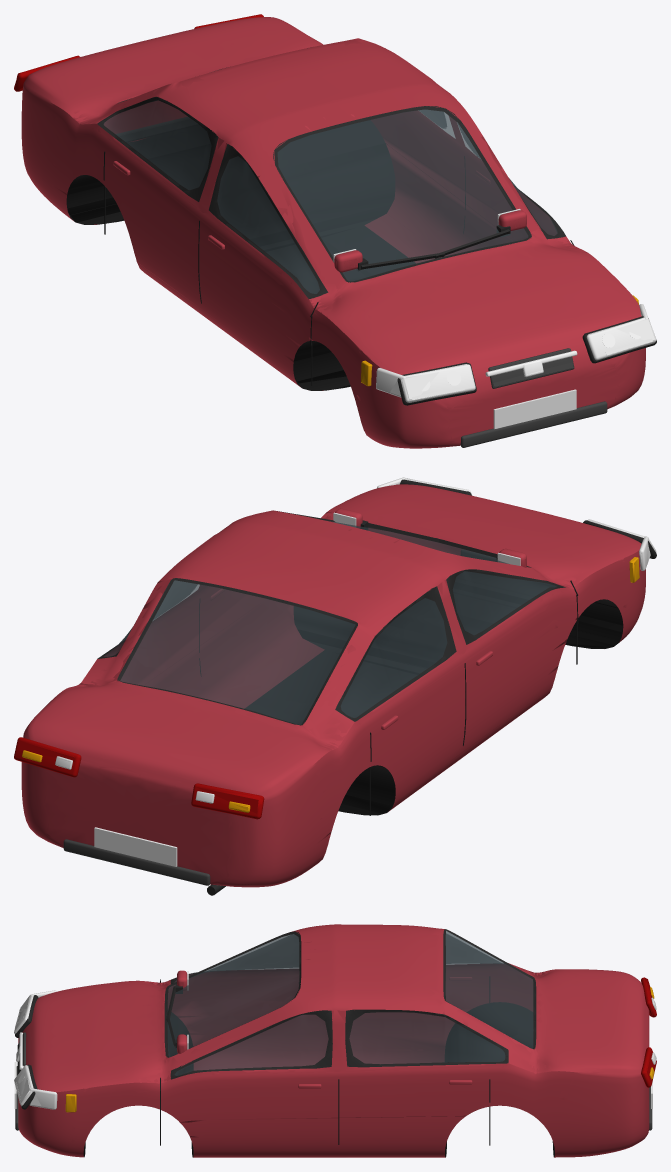
The model's file is priora.glb.
3 views of the same model, one above another, from view 1: azimuth 30°, elevation 25°; view 2: azimuth 150°, elevation 25°; view 3: azimuth 270°, elevation 25° (orthographic). The views are drawn at different scales.
Visible parts, largest first — view 1: LOD_hi, LOD0; view 2: LOD_hi, LOD0; view 3: LOD_hi, LOD0.
Boxes of the visible parts, x1=… form: LOD_hi: x1=14, y1=14, x2=656, y2=448; LOD0: x1=15, y1=15, x2=654, y2=448; LOD_hi: x1=14, y1=477, x2=656, y2=895; LOD0: x1=17, y1=478, x2=654, y2=894; LOD_hi: x1=14, y1=924, x2=656, y2=1157; LOD0: x1=15, y1=924, x2=654, y2=1157.
Size of what is drawn, in the model's own units: 1.74 by 1.23 by 4.43.
